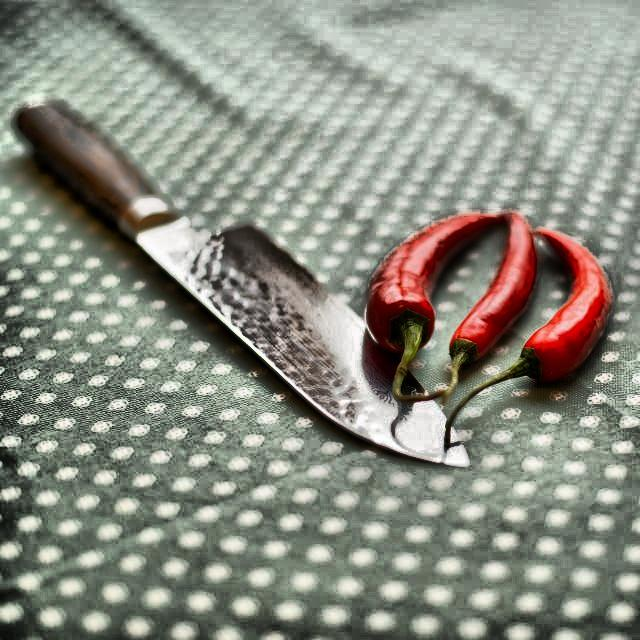knife: (15, 90, 476, 474)
